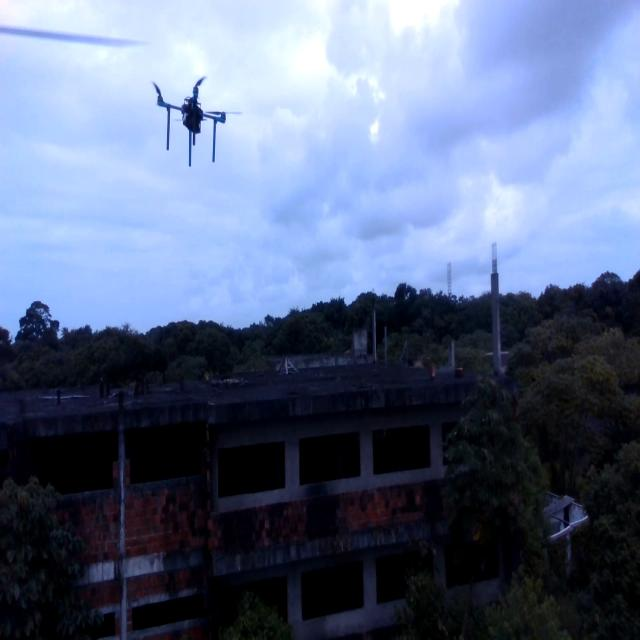-uav-: (146, 61, 243, 179)
